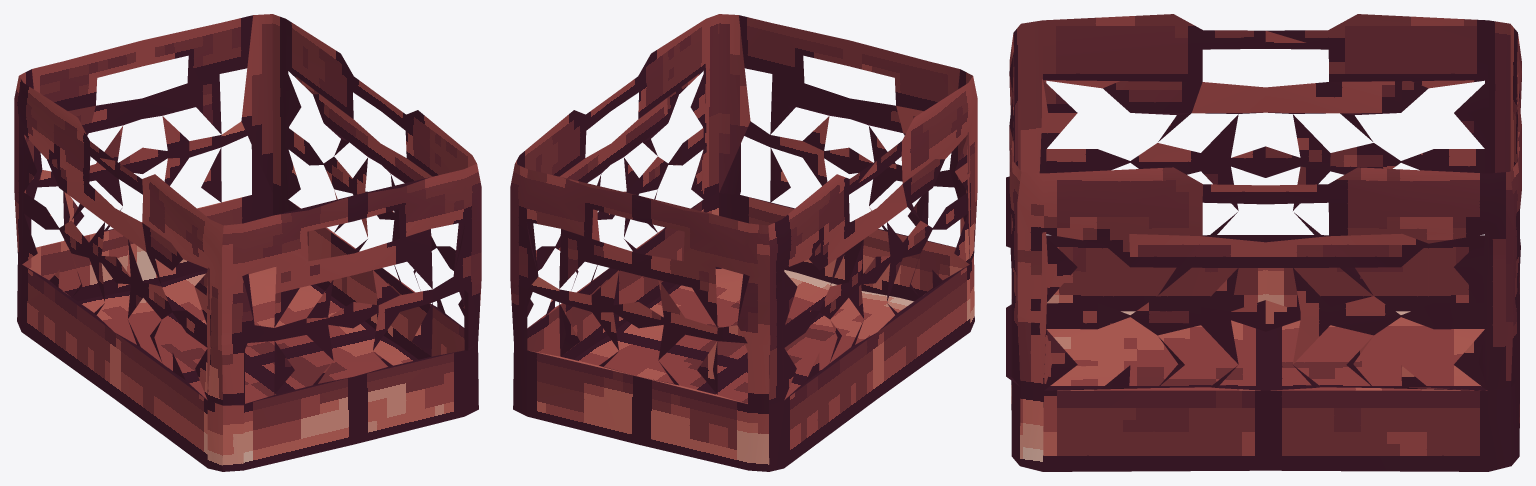
Rendered from plastic_crate_01.glb.
3 views of the same model, side by side, from view 1: azimuth 30°, elevation 25°; view 2: azimuth 150°, elevation 25°; view 3: azimuth 270°, elevation 25° (orthographic). The views are drawn at different scales.
Parts seen in each view (by area): view 1: mesh; view 2: mesh; view 3: mesh.
Part boxes in pixels (left/top/right/bottom): mesh: left=14, top=14, right=481, bottom=471; mesh: left=510, top=14, right=977, bottom=471; mesh: left=1006, top=14, right=1521, bottom=471.
Bounding box in the file's own units: 0.2939 × 0.2642 × 0.4071.
Materials: 1 (1 with a texture image).
